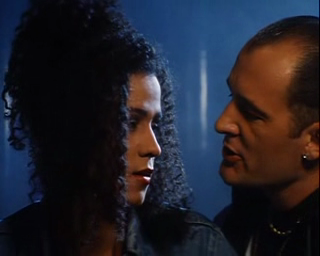cu: (1, 1, 320, 256)
face: (214, 64, 286, 187), (124, 81, 162, 206)
person: (1, 1, 239, 256), (214, 15, 320, 256)
